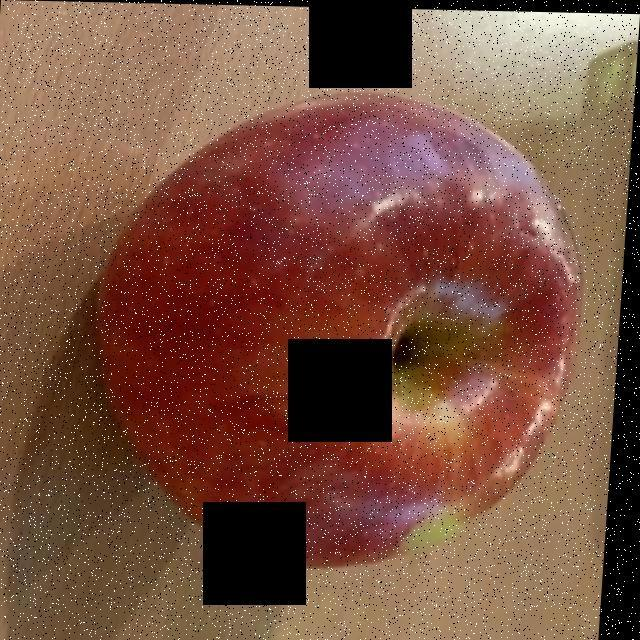apple: (99, 98, 565, 565)
